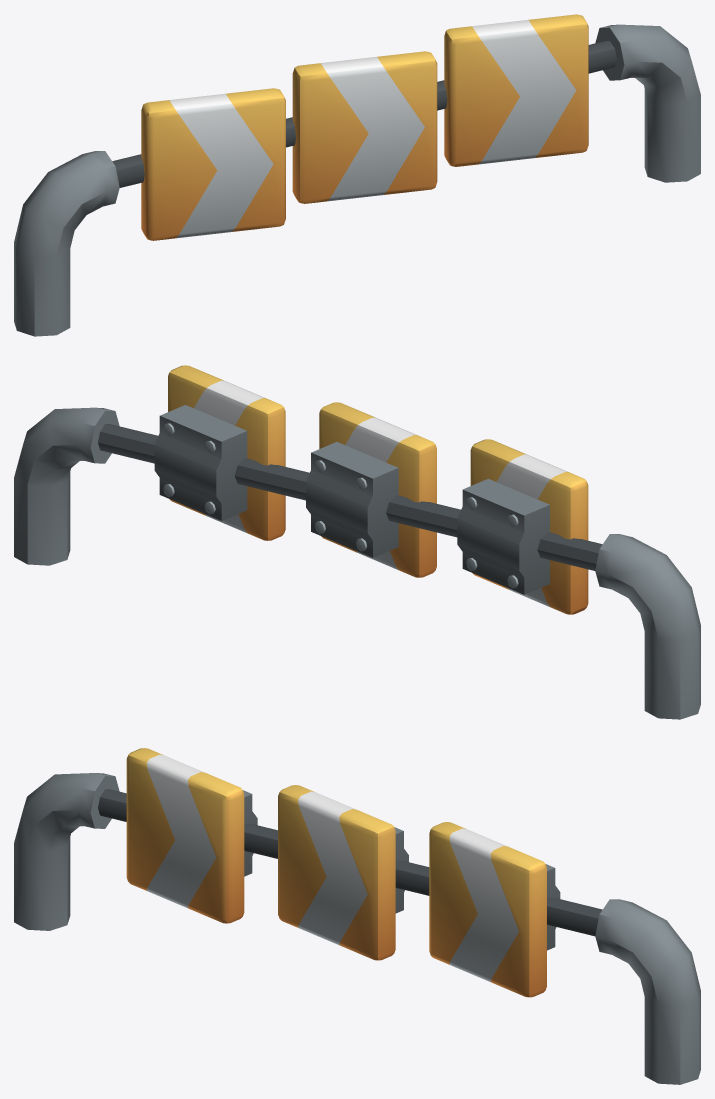
The model's file is signage_arrows_right_yellow.glb.
3 views of the same model, one above another, from view 1: azimuth 30°, elevation 25°; view 2: azimuth 150°, elevation 25°; view 3: azimuth 330°, elevation 25° (orthographic).
Parts seen in each view (by area): view 1: signage_arrows_right_yellow; view 2: signage_arrows_right_yellow; view 3: signage_arrows_right_yellow.
Boxes of the visible parts, x1,y1,x2,y2 form: signage_arrows_right_yellow: [14, 14, 700, 336]; signage_arrows_right_yellow: [14, 365, 700, 719]; signage_arrows_right_yellow: [14, 748, 700, 1084].
Size of the model in its own units: 5.4 by 1.5 by 0.6771.
1 material, 1 textured.
